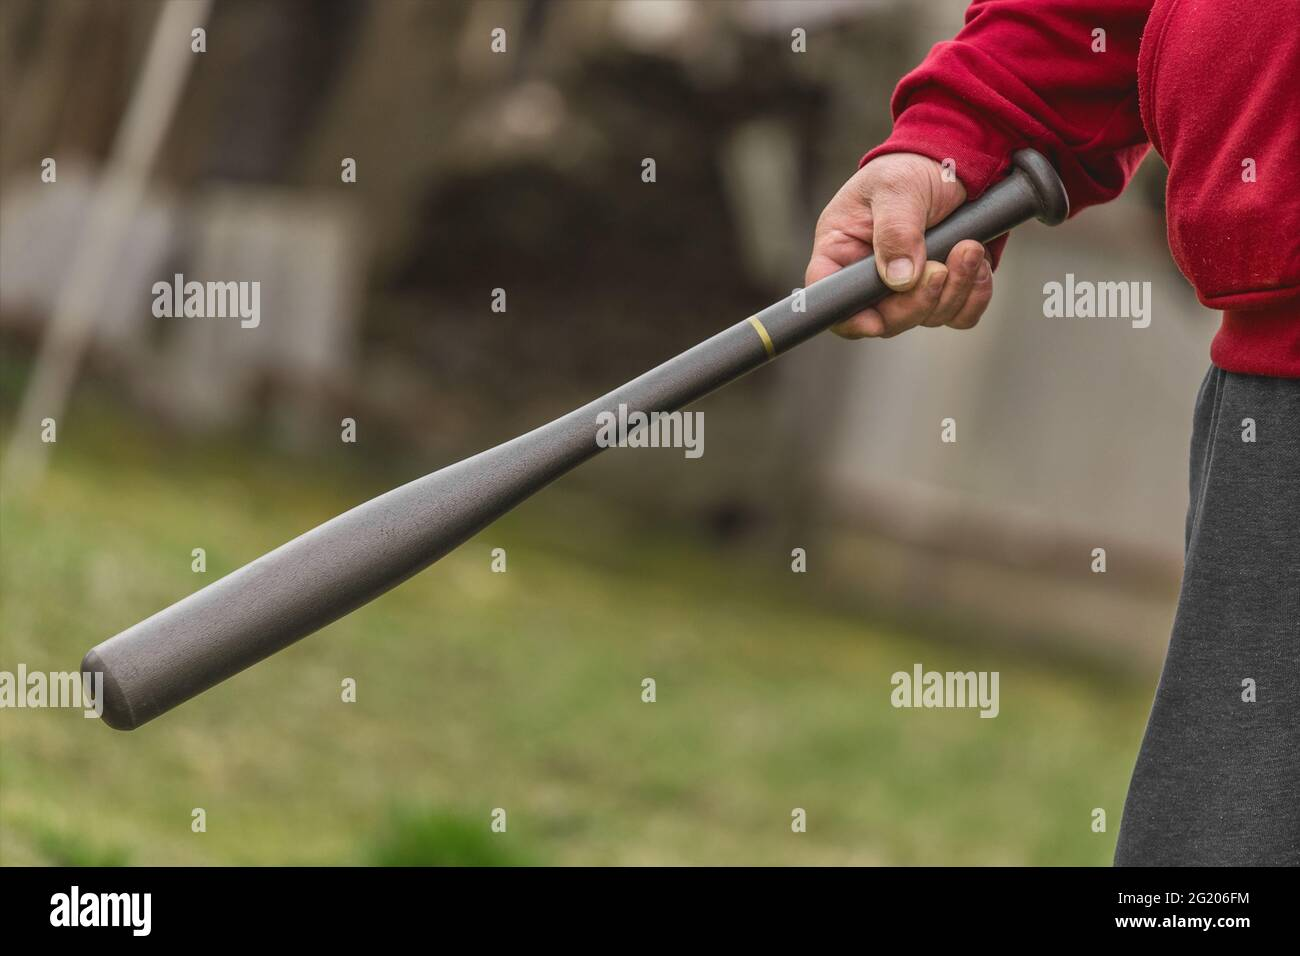bat: (53, 111, 1109, 723)
